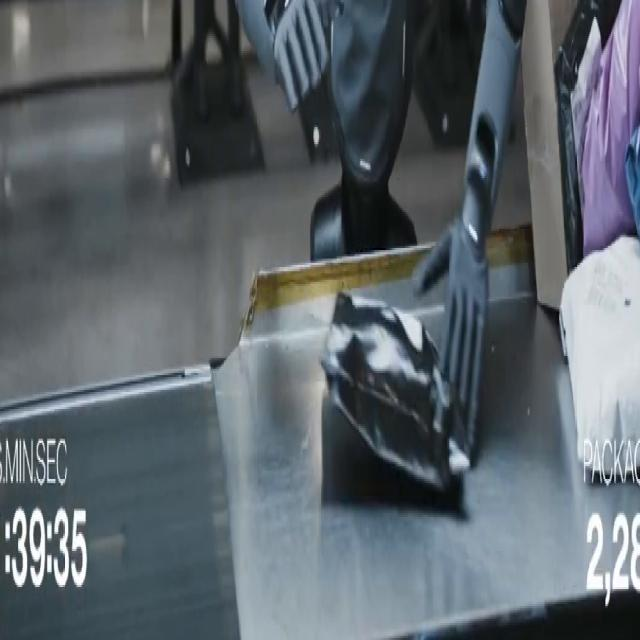package: (321, 293, 469, 491), (560, 238, 639, 472), (555, 0, 619, 273), (522, 0, 577, 309), (582, 0, 639, 256), (571, 20, 602, 216), (626, 128, 639, 237)
